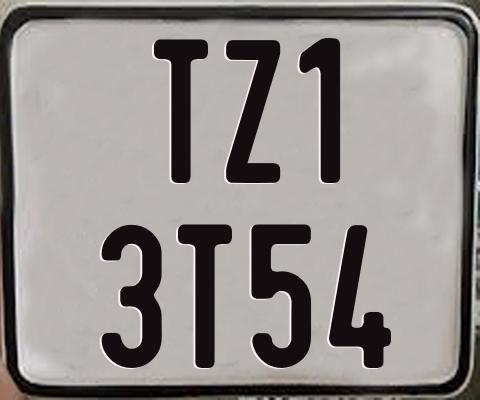1: (297, 35, 344, 185)
3: (101, 224, 167, 367)
4: (326, 224, 388, 367)
5: (250, 221, 312, 368)
T: (152, 38, 208, 185), (175, 223, 230, 370)
Z: (223, 37, 277, 185)
